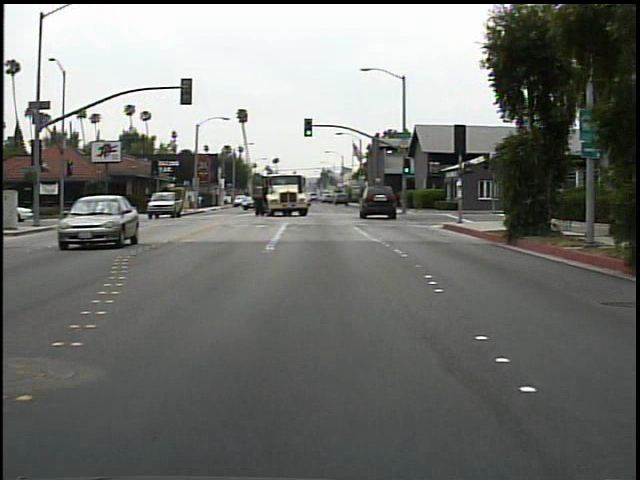person: (199, 191, 207, 211)
